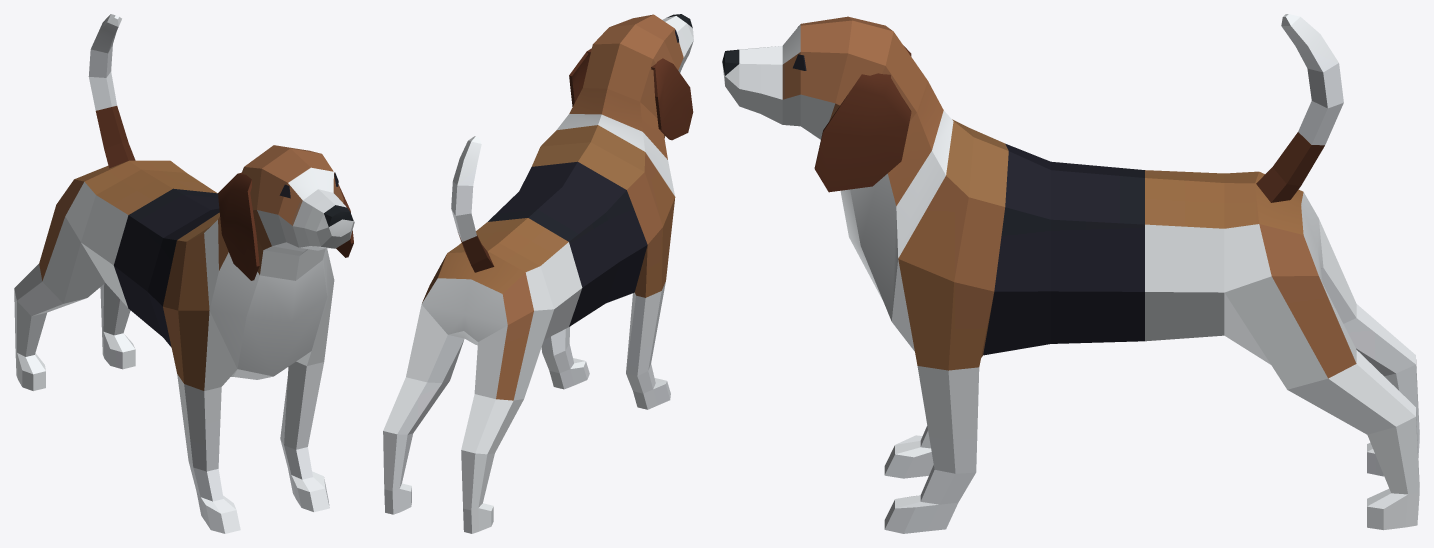
File: 0BnDT3T1wTE.glb
3 renders of one model, left to right at view 1: azimuth 30°, elevation 25°; view 2: azimuth 150°, elevation 25°; view 3: azimuth 270°, elevation 25°, orthographic. The views are drawn at different scales.
Parts seen in each view (by area): view 1: Geo_Beagle; view 2: Geo_Beagle; view 3: Geo_Beagle.
Part boxes in pixels (box(x1,y1,x2,y2)): Geo_Beagle: box(14, 14, 354, 533); Geo_Beagle: box(383, 14, 693, 533); Geo_Beagle: box(722, 14, 1419, 533).
Size of the model in its own units: 0.3857 by 1 by 1.31.
Materials: 1 (1 with a texture image).
